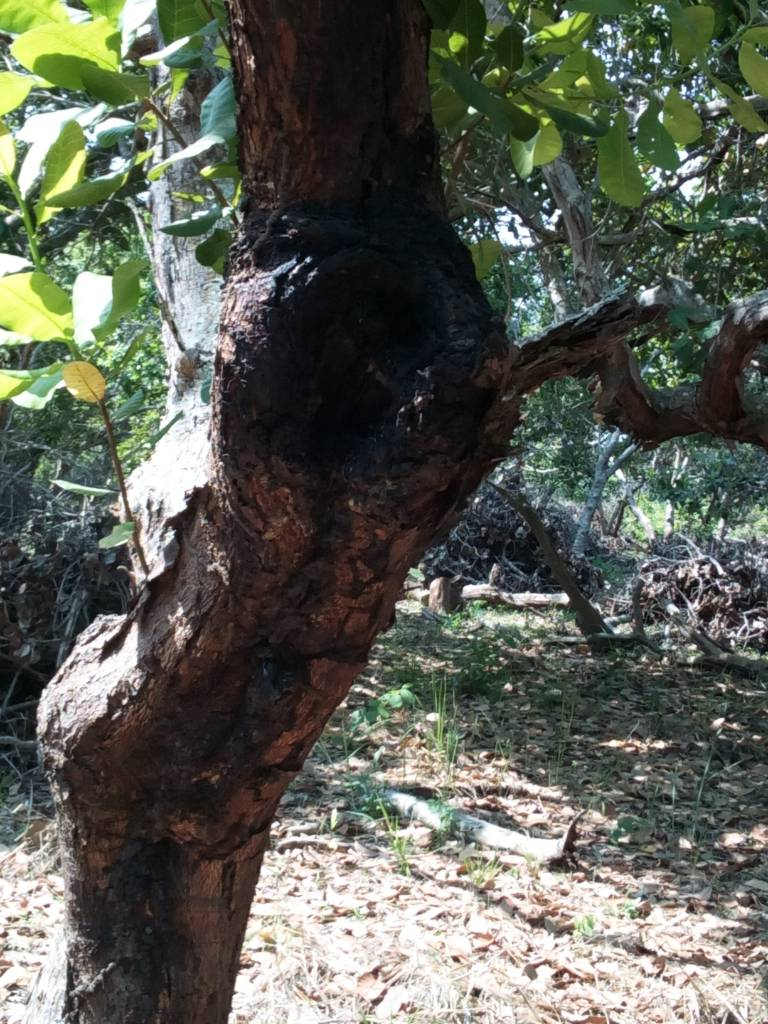ploceadorus ferrugineus: (222, 261, 489, 562)
